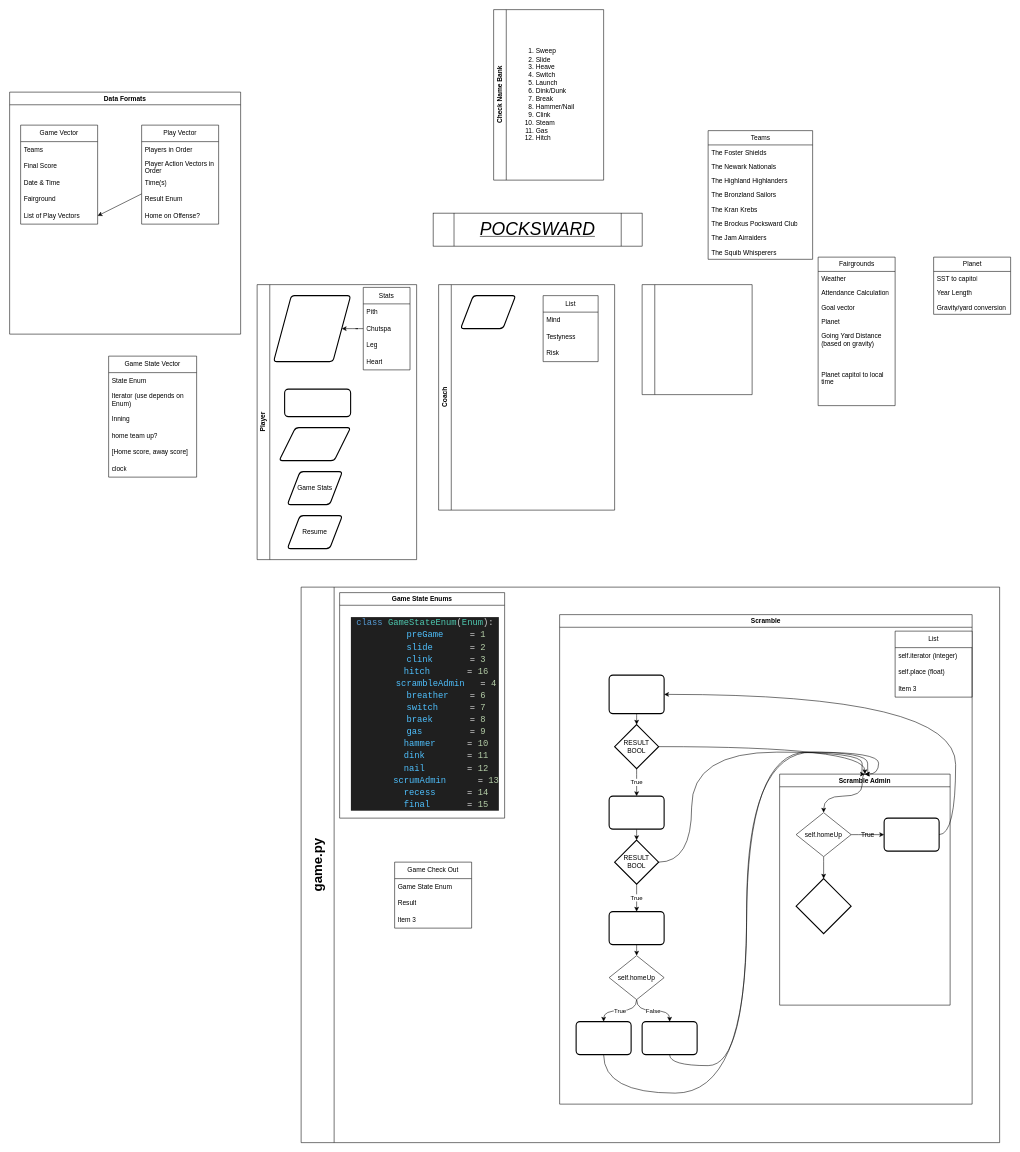
Image size: 1020x1152. Some labels were removed from this diagram. The shapes that lost their labels are listed below. From the top down, each one's centre as x and y in pixels, then its label:
point 312,328: Player Vector
point 488,312: Coaching Vector
point 697,339: Team
point 317,402: Random Side-of-Bed vector
point 314,444: Name, Age, etc.
point 636,694: SLIDE Slider executes slide check
point 636,812: CLINK Clinker executes clink check
point 911,834: Set self.homeUp to False
point 823,906: Iterator < 5
point 636,928: HITCH Watch it fly
point 603,1038: Add Hitch distance to self.place
point 669,1038: Subtract Hitch distance from self.place
